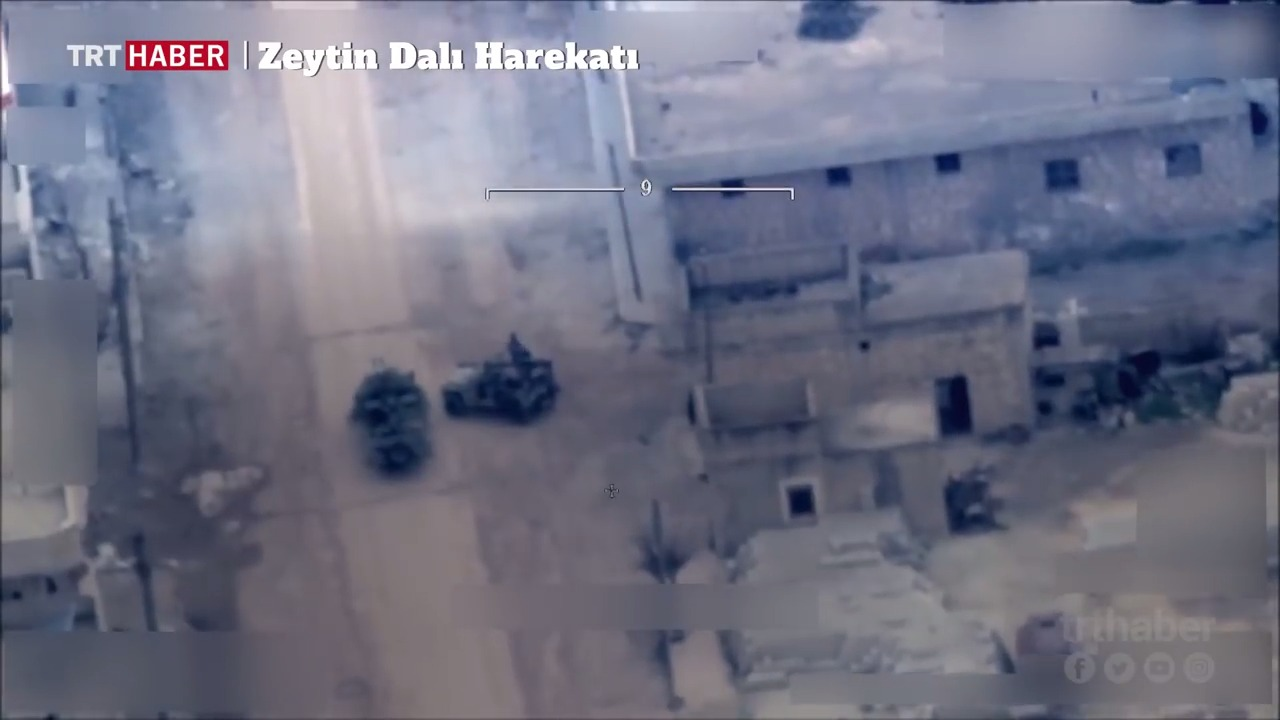arac: (347, 360, 428, 478), (442, 358, 557, 416)
bina: (650, 238, 1043, 455)
insan: (503, 330, 533, 357)
